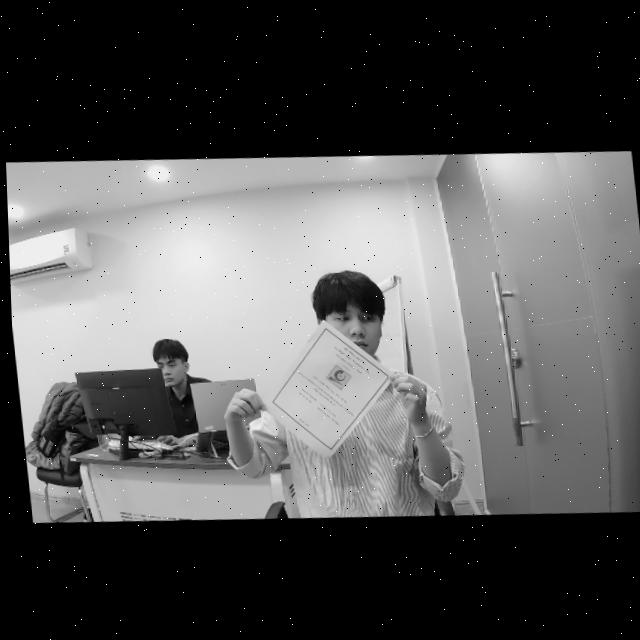document: (261, 319, 395, 459)
face: (317, 277, 392, 358), (155, 339, 190, 391)
